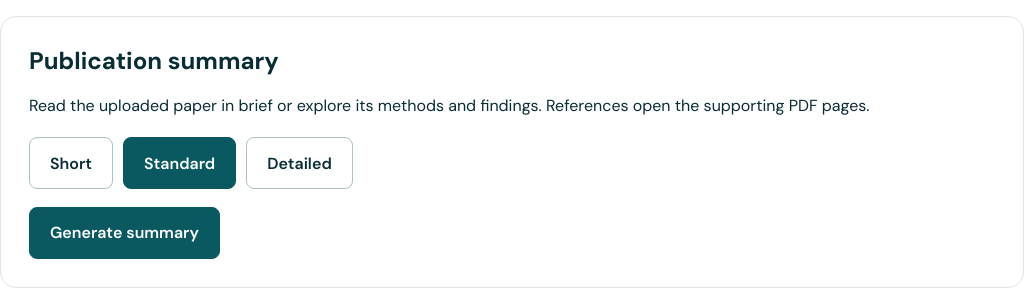
publication summary › queues missing summaries and displays pending status
Click the button "Generate summary" at (124, 233), box [29,207,220,259]
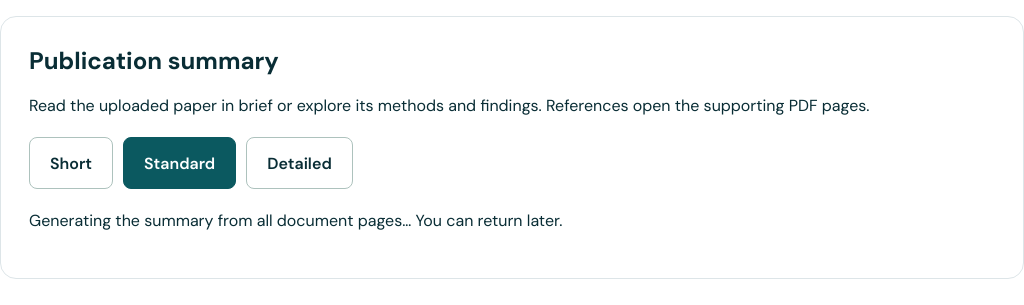
Now the text "Generating the summary from all document pages… You can return later." is shown, box [29,210,562,231]
